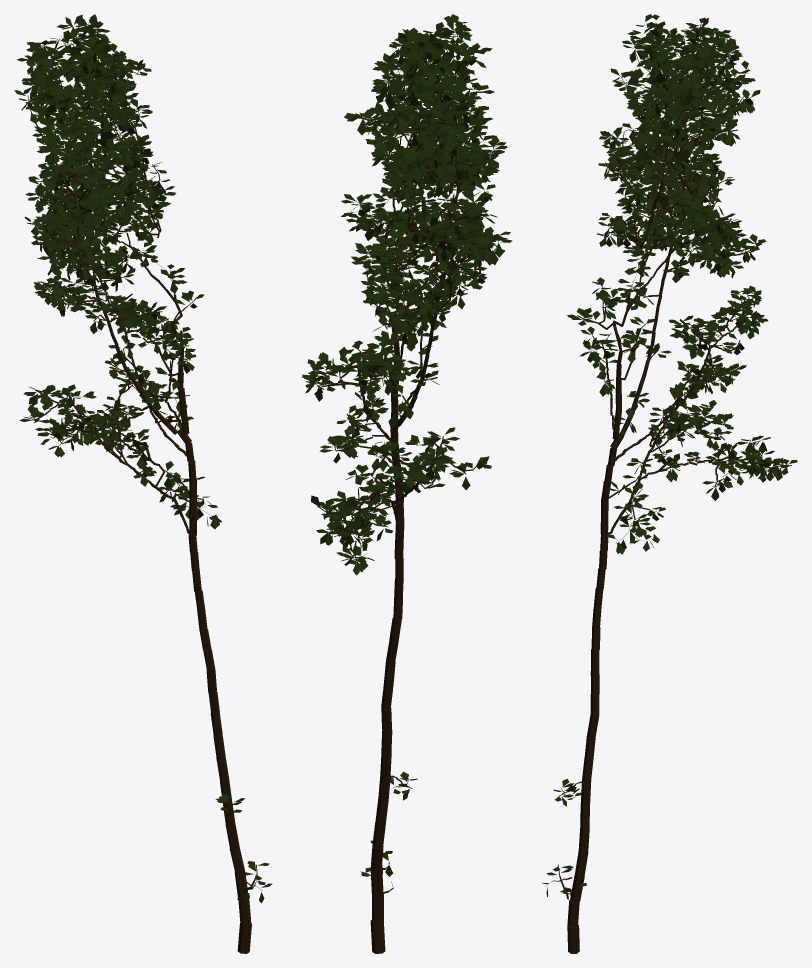
File: tree_197.obj
3 renders of one model, left to right at view 1: azimuth 30°, elevation 25°; view 2: azimuth 150°, elevation 25°; view 3: azimuth 270°, elevation 25°, orthographic. The views are drawn at different scales.
Visible parts, largest first — view 1: Leaves, TrunkAndBranches; view 2: Leaves, TrunkAndBranches; view 3: Leaves, TrunkAndBranches.
Boxes of the visible parts, box(x1,y1,x2,y2) form: Leaves: box(14, 14, 272, 903); TrunkAndBranches: box(27, 24, 262, 953); Leaves: box(301, 14, 512, 876); TrunkAndBranches: box(312, 23, 498, 953); Leaves: box(542, 14, 797, 899); TrunkAndBranches: box(546, 24, 788, 953).
Bounding box in the file's own units: 4.28 × 20.63 × 5.41.
